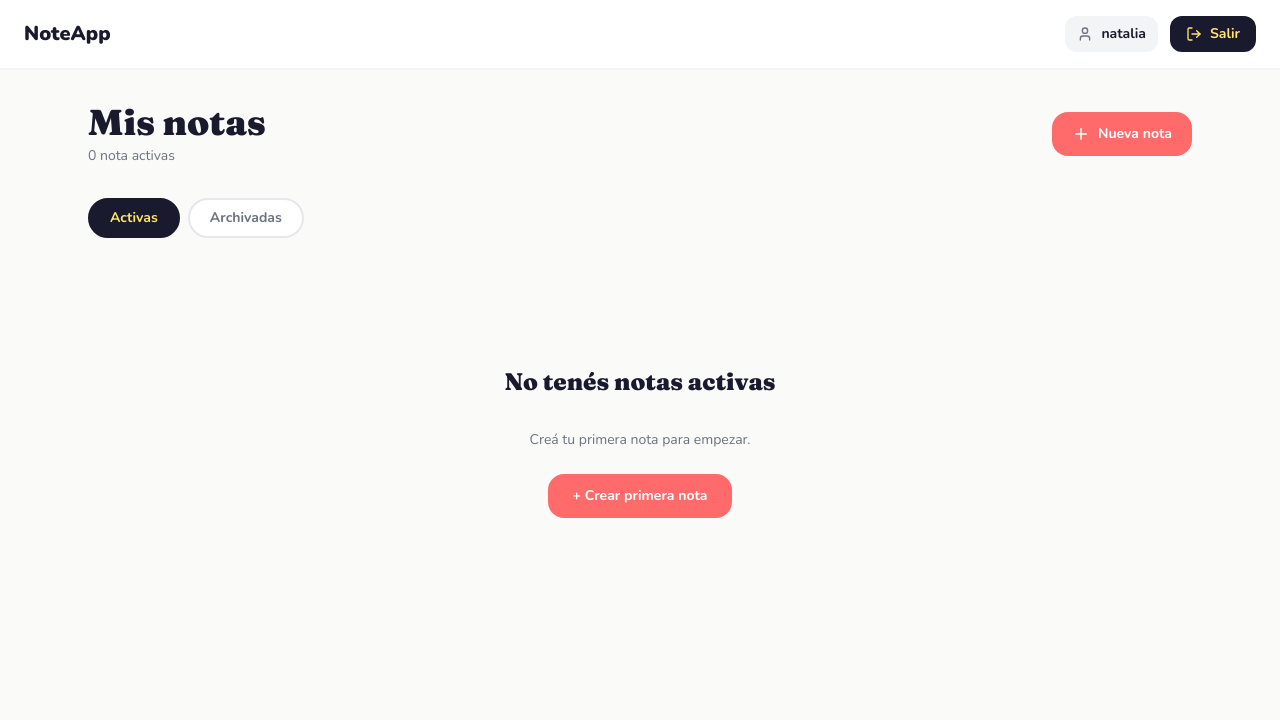
Test: NotesPage › creates a note and reloads the list
Expected: the heading "No tenés notas activas" is shown, left=504, top=366, right=776, bottom=398
Click the button "Nueva nota".
click(1122, 134)  # box left=1052, top=112, right=1192, bottom=156
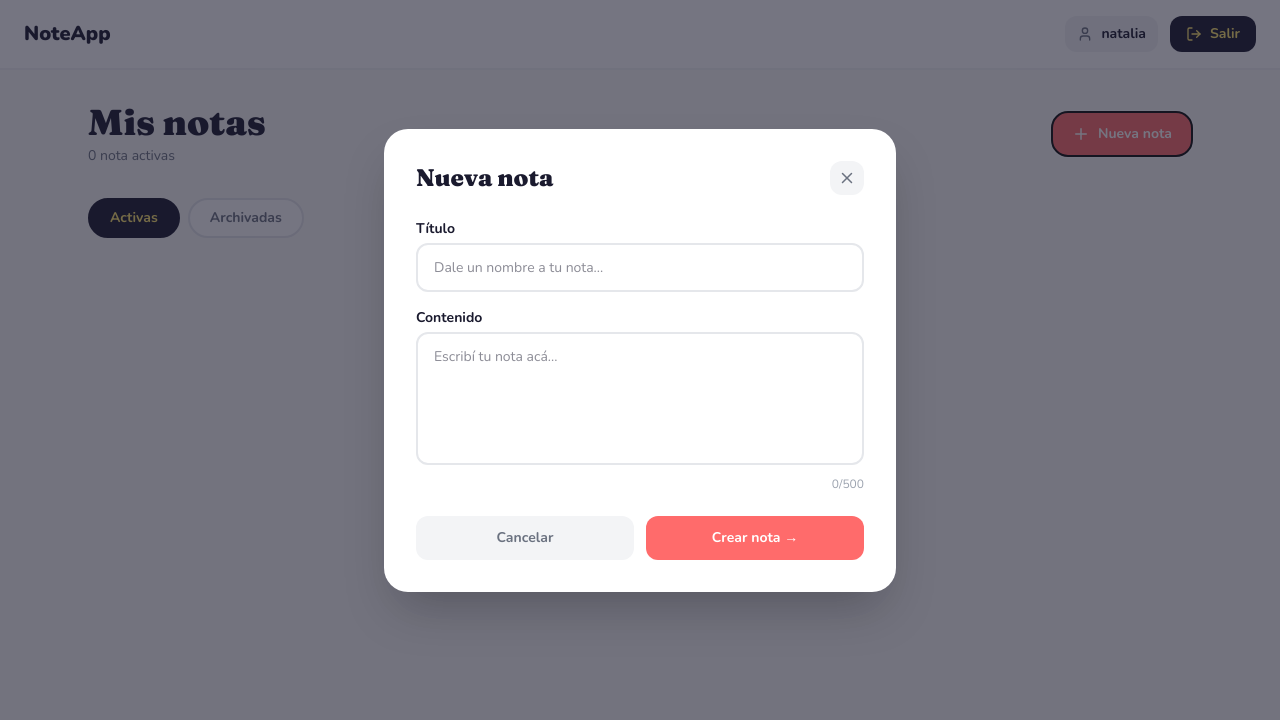
Type "Nueva idea" into the field with placeholder "Dale un nombre a tu nota...".
click(640, 267); type("Nueva idea")  # box left=416, top=242, right=864, bottom=292
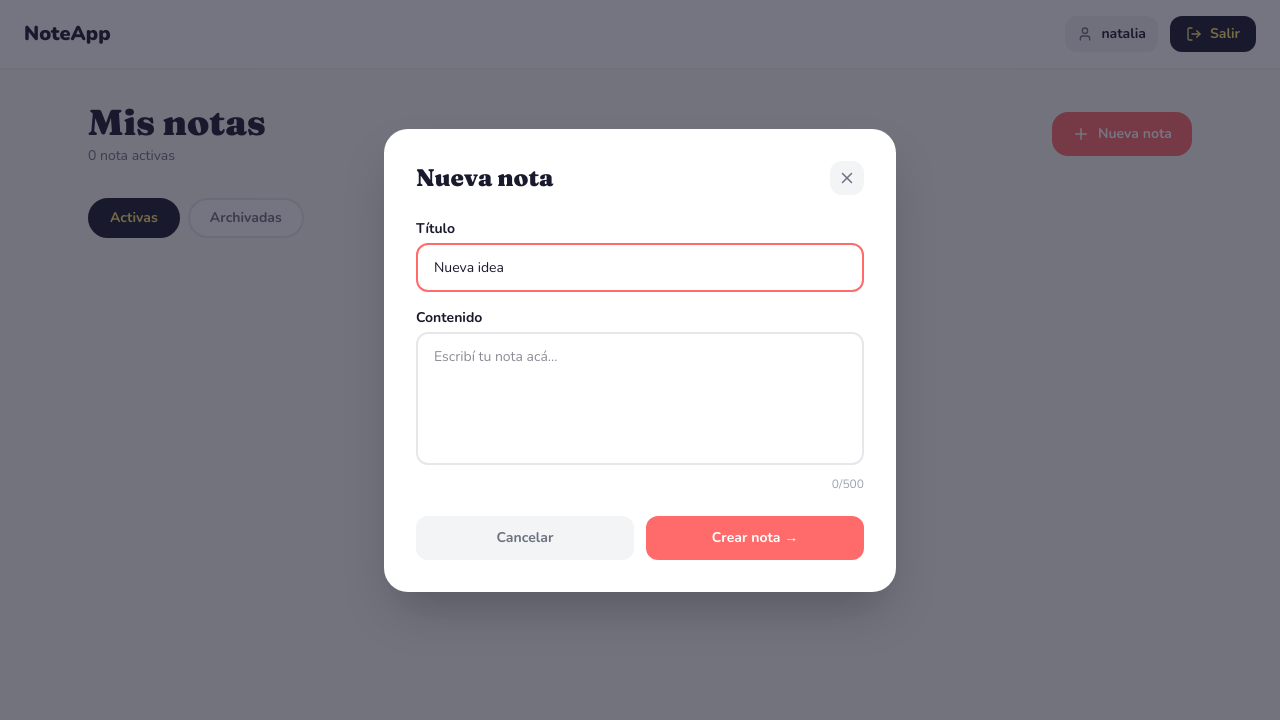
Type "Contenido de prueba" into the text box with placeholder "Escribí tu nota acá...".
click(640, 398); type("Contenido de prueba")  # box left=416, top=332, right=864, bottom=464
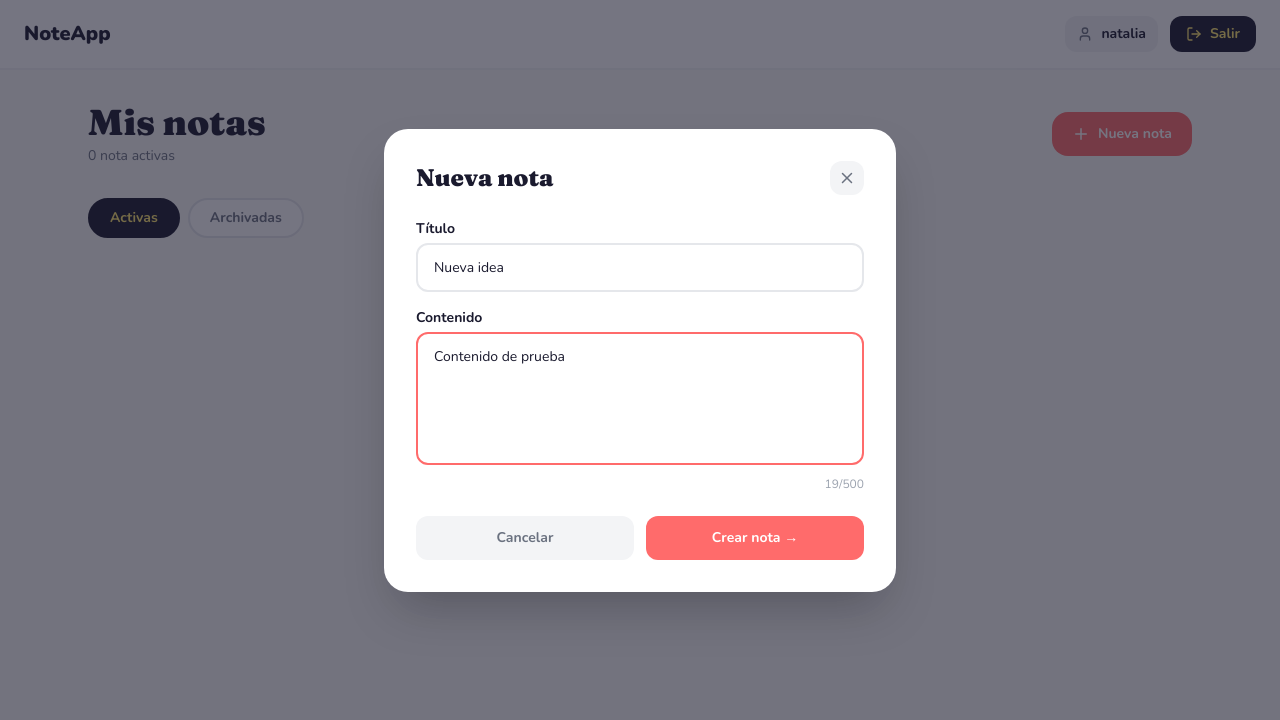
Click the button "Crear nota →".
click(755, 538)  # box left=646, top=516, right=864, bottom=560
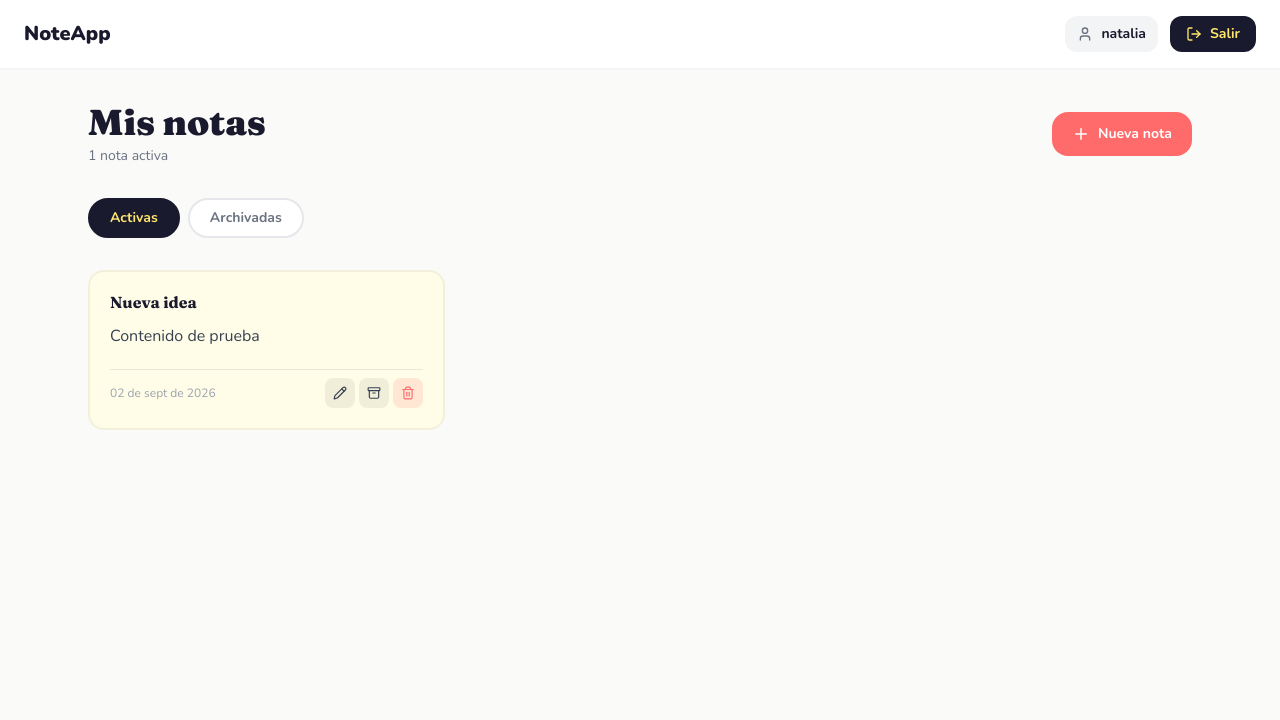
Now the heading "Nueva idea" is shown, box left=110, top=292, right=197, bottom=312
